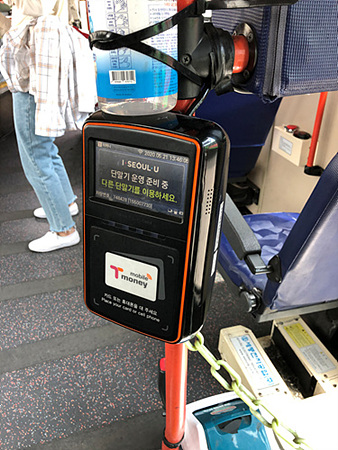terminal: (83, 105, 217, 341)
